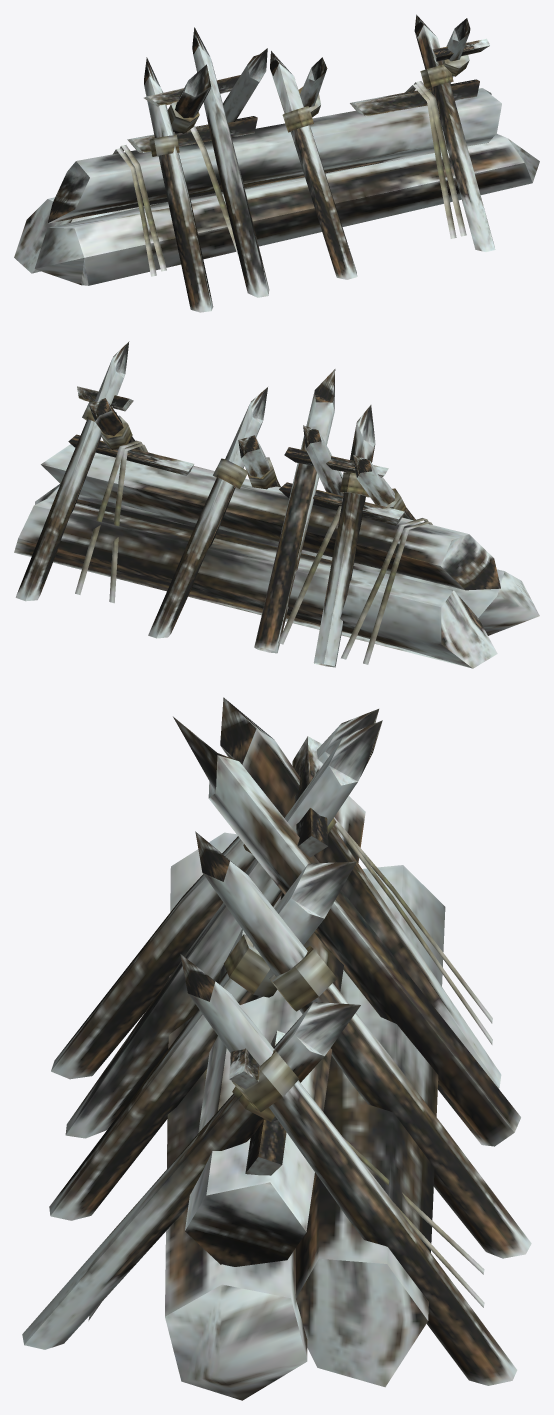
File: S_Build_Snowland117.FBX
3 views of the same model, one above another, from view 1: azimuth 30°, elevation 25°; view 2: azimuth 150°, elevation 25°; view 3: azimuth 270°, elevation 25° (orthographic). The views are drawn at different scales.
Visible parts, largest first — view 1: S_Build_Snowland117; view 2: S_Build_Snowland117; view 3: S_Build_Snowland117.
Boxes of the visible parts, x1,y1,x2,y2 form: S_Build_Snowland117: (14, 14, 539, 312); S_Build_Snowland117: (14, 341, 539, 668); S_Build_Snowland117: (22, 697, 531, 1400).
Bounding box in the file's own units: 647 × 284 × 277.
